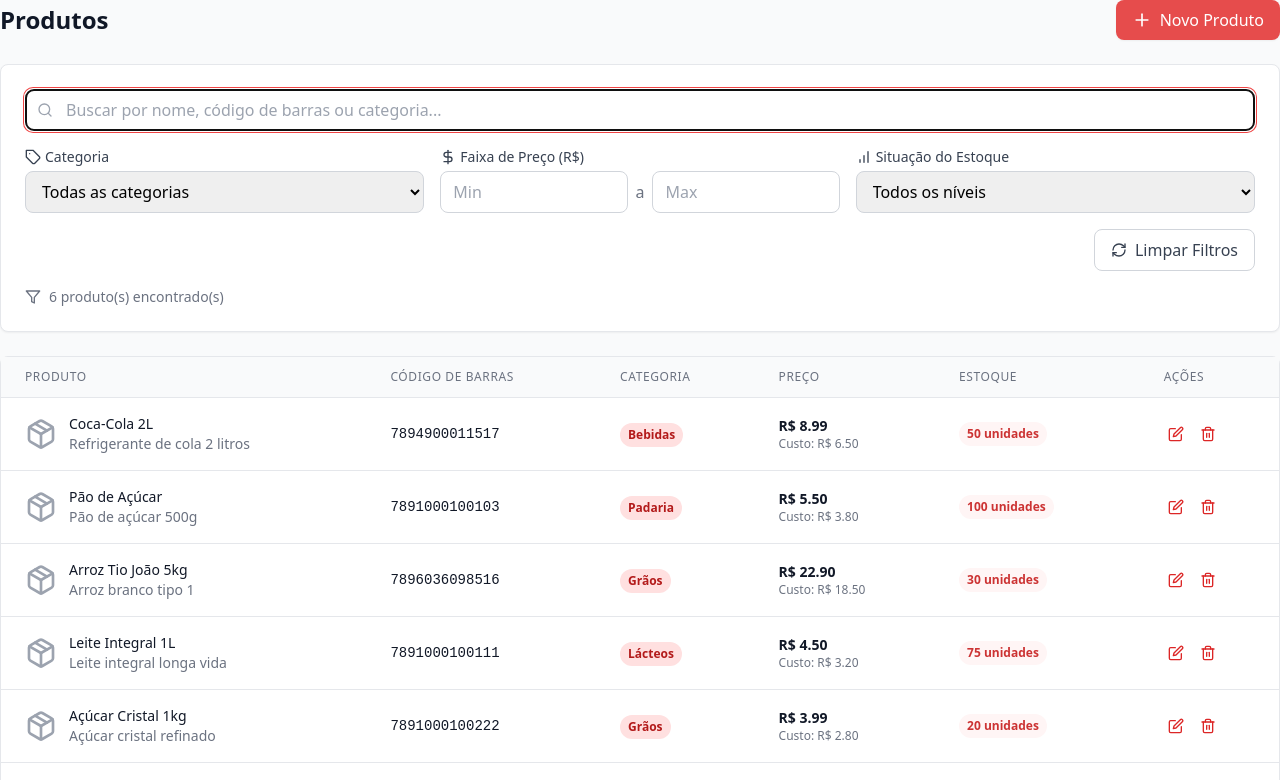
Test case: Products Component › deve filtrar por categoria
The width and height of the screenshot is (1280, 780).
Select "Bebidas" in the 1st dropdown showing "Todas as categorias": (225, 192) [25,171,424,213]
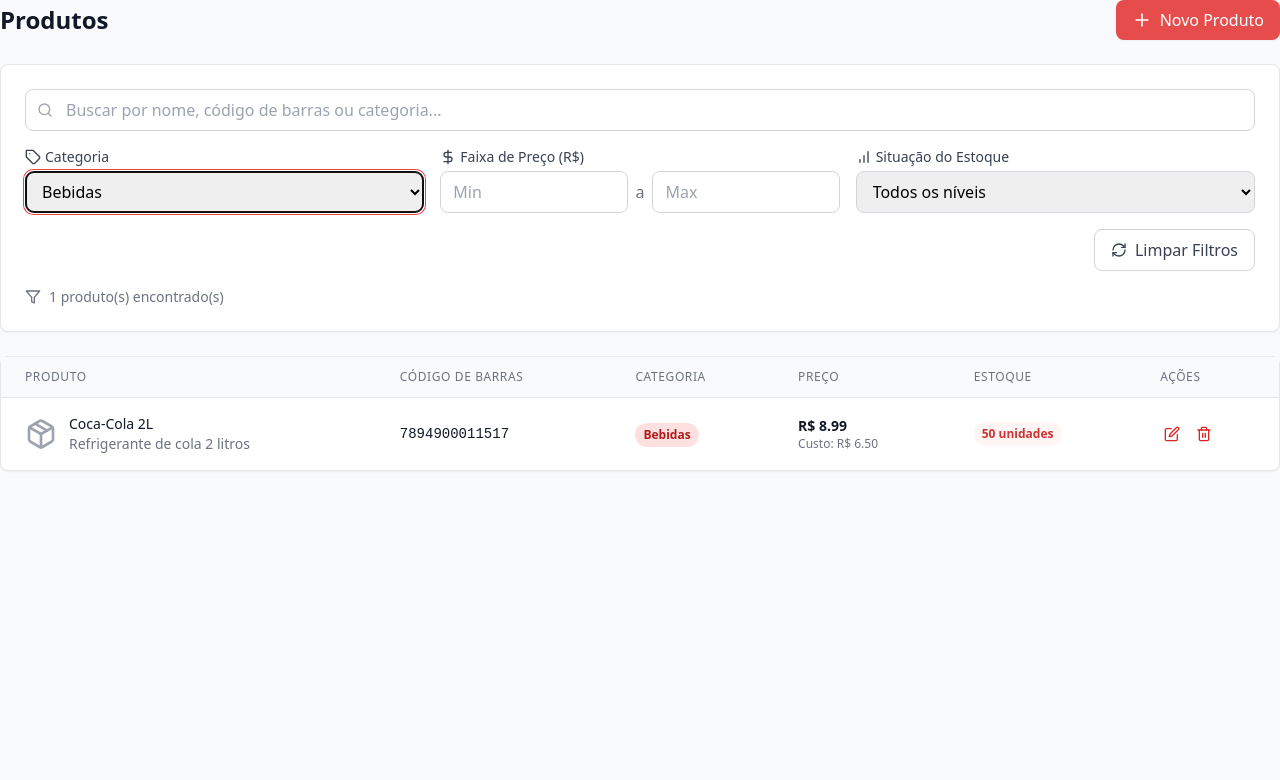
Expected: the text "Coca-Cola 2L" is shown, [69,414,153,433]
Now the text "Pão de Açúcar" is gone
